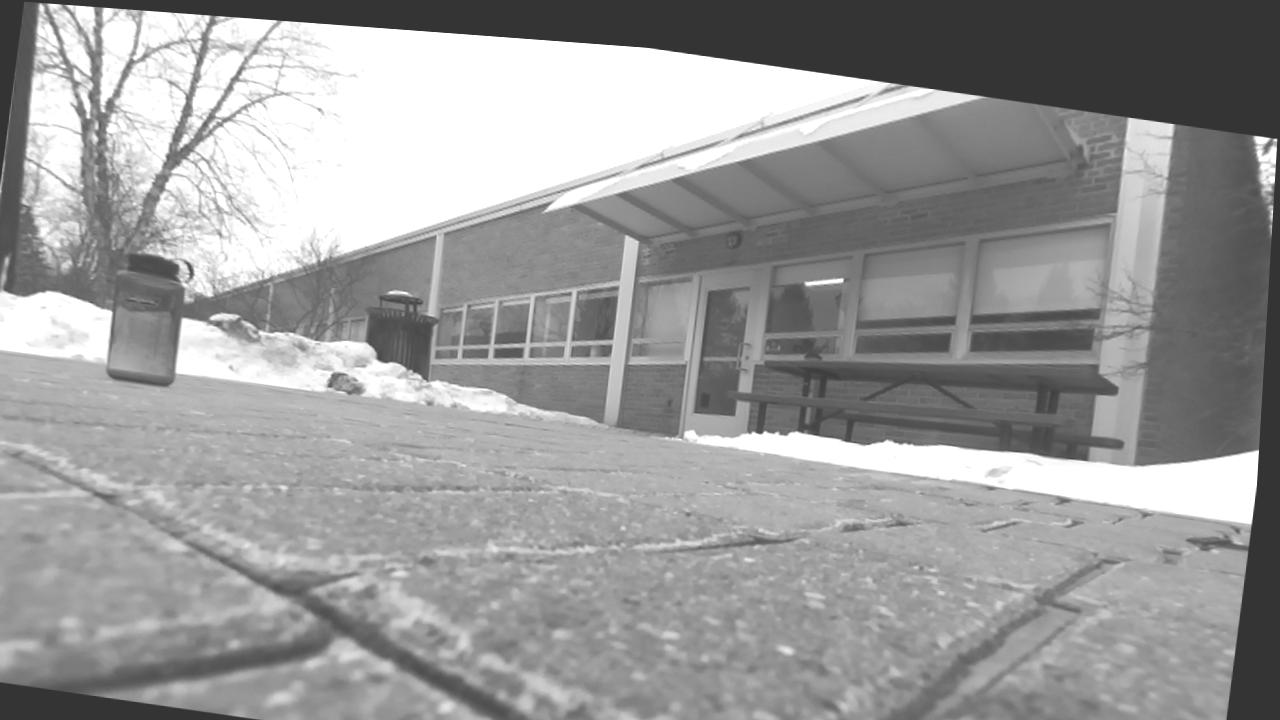bottle: (106, 252, 193, 384)
